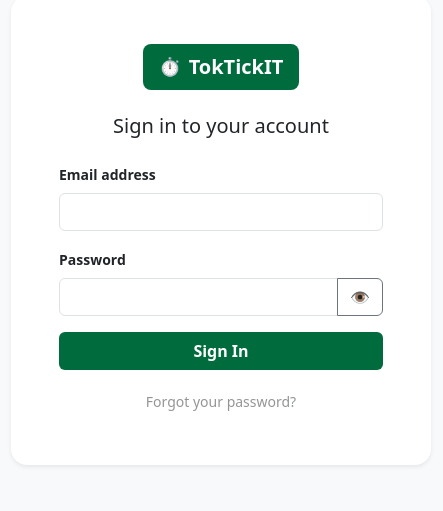
Test: App › shows a safe error message when the backend rejects invalid credentials
The width and height of the screenshot is (443, 511).
Expected: the heading "Sign in to your account" is shown, [113,112,329,138]
In the field labelled "Email address": (221, 212) [59,192,383,230], type "jennifer@example.com"
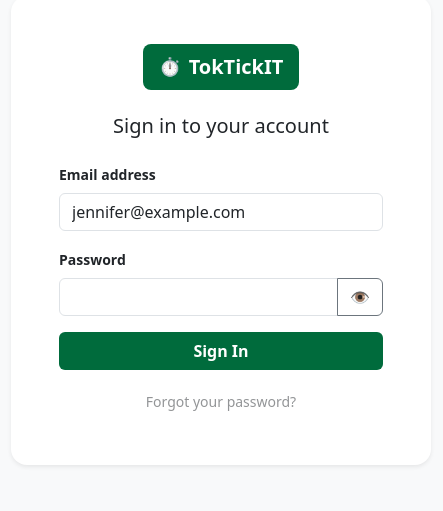
In the password field labelled "Password": (198, 296) [59,278,338,316], type "wrong-password"
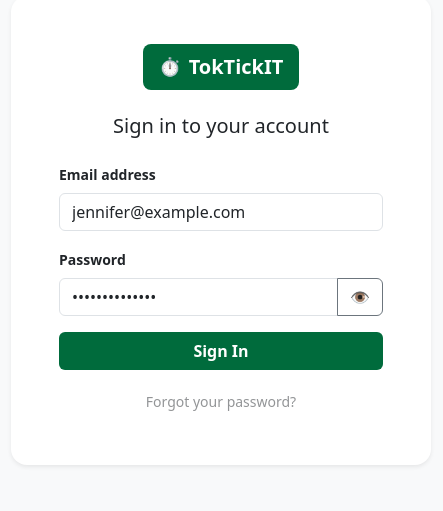
Click the button "Sign In": click(221, 350) [59,332,383,370]
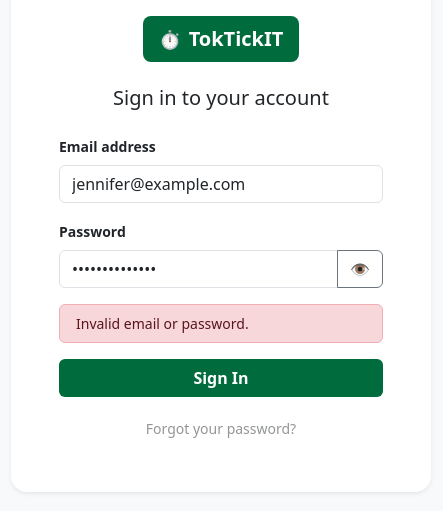
Result: the message shows "Invalid email or password" at [76,314,249,333]
